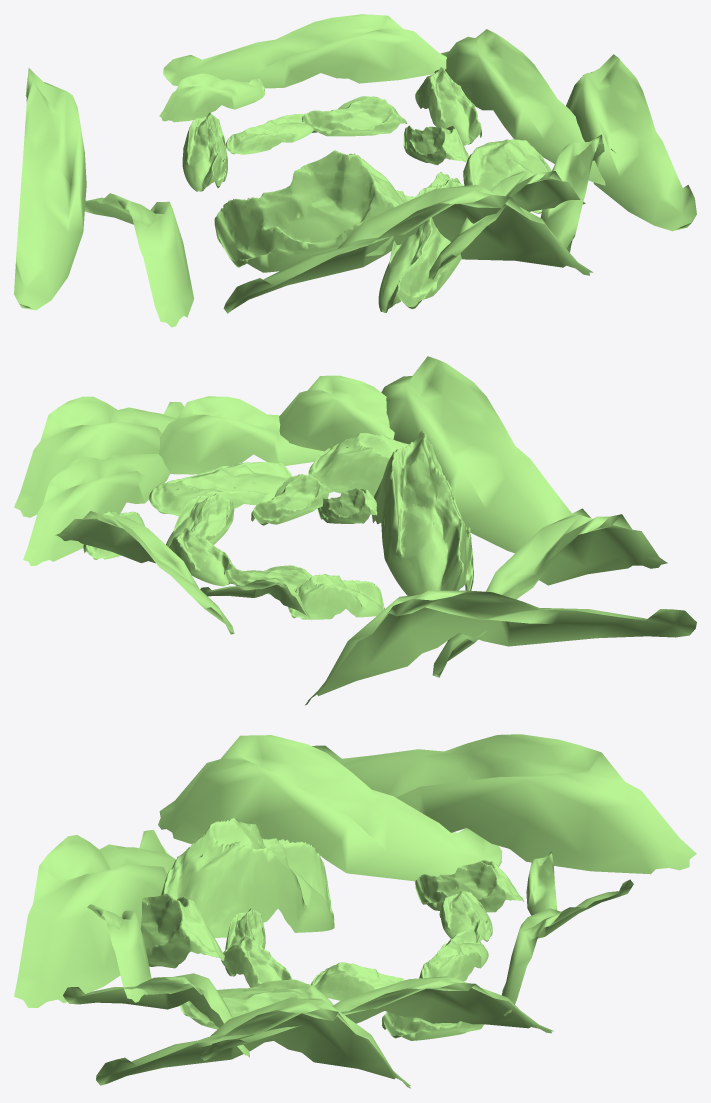
Rendered from background_mountains_sm.fbx.
3 renders of one model, top to bottom at view 1: azimuth 30°, elevation 25°; view 2: azimuth 150°, elevation 25°; view 3: azimuth 270°, elevation 25°, orthographic. The views are drawn at different scales.
Visible parts, largest first — view 1: hill.005|Sphere|Dupli|, hill_02.009|Sphere.001|Dupli|, hill_02.007|Sphere.001|Dupli|, hill_02.002|Sphere.001|Dupli|, hill_02.005|Sphere.001|Dupli|, hill_02.003|Sphere.001|Dupli|, hill_02.008|Sphere.001|Dupli|, hill.008|Sphere|Dupli|, hill_02.006|Sphere.001|Dupli|, hill_02|Sphere.001|Dupli|, hill_02.004|Sphere.001|Dupli|, hill.001|Sphere|Dupli| (+5 smaller); view 2: hill_02.007|Sphere.001|Dupli|, hill_02.009|Sphere.001|Dupli|, hill.005|Sphere|Dupli|, hill_02.008|Sphere.001|Dupli|, hill_02.005|Sphere.001|Dupli|, hill_02.004|Sphere.001|Dupli|, hill_02.003|Sphere.001|Dupli|, hill_02.006|Sphere.001|Dupli|, hill_02.002|Sphere.001|Dupli|, hill.009|Sphere|Dupli|, hill.008|Sphere|Dupli|, hill.004|Sphere|Dupli| (+7 smaller); view 3: hill_02.009|Sphere.001|Dupli|, hill_02.008|Sphere.001|Dupli|, hill_02.007|Sphere.001|Dupli|, hill.005|Sphere|Dupli|, hill_02.005|Sphere.001|Dupli|, hill_02.003|Sphere.001|Dupli|, hill.008|Sphere|Dupli|, hill_02.004|Sphere.001|Dupli|, hill.004|Sphere|Dupli|, hill_02.002|Sphere.001|Dupli|, hill_02.006|Sphere.001|Dupli|, hill.009|Sphere|Dupli| (+7 smaller).
Part boxes in pixels (x1,y1,x2,y2): hill.005|Sphere|Dupli|: (214, 150, 404, 272); hill_02.009|Sphere.001|Dupli|: (14, 68, 86, 310); hill_02.007|Sphere.001|Dupli|: (223, 184, 593, 313); hill_02.002|Sphere.001|Dupli|: (163, 14, 446, 88); hill_02.005|Sphere.001|Dupli|: (566, 54, 696, 231); hill_02.003|Sphere.001|Dupli|: (434, 29, 615, 185); hill_02.008|Sphere.001|Dupli|: (85, 193, 194, 327); hill.008|Sphere|Dupli|: (378, 179, 463, 312); hill_02.006|Sphere.001|Dupli|: (428, 171, 585, 279); hill_02|Sphere.001|Dupli|: (159, 73, 265, 122); hill_02.004|Sphere.001|Dupli|: (540, 134, 604, 252); hill.001|Sphere|Dupli|: (302, 96, 407, 136); hill_02.007|Sphere.001|Dupli|: (381, 356, 590, 553); hill_02.009|Sphere.001|Dupli|: (305, 590, 696, 705); hill.005|Sphere|Dupli|: (372, 430, 473, 595); hill_02.008|Sphere.001|Dupli|: (432, 514, 667, 677); hill_02.005|Sphere.001|Dupli|: (14, 396, 183, 517); hill_02.004|Sphere.001|Dupli|: (159, 396, 324, 474); hill_02.003|Sphere.001|Dupli|: (23, 454, 169, 565); hill_02.006|Sphere.001|Dupli|: (279, 375, 394, 451); hill_02.002|Sphere.001|Dupli|: (55, 511, 234, 634); hill.009|Sphere|Dupli|: (149, 462, 291, 516); hill.008|Sphere|Dupli|: (308, 433, 409, 497); hill.004|Sphere|Dupli|: (288, 574, 384, 619); hill_02.009|Sphere.001|Dupli|: (312, 734, 696, 874); hill_02.008|Sphere.001|Dupli|: (158, 735, 502, 881); hill_02.007|Sphere.001|Dupli|: (14, 830, 175, 1007); hill.005|Sphere|Dupli|: (161, 817, 334, 937); hill_02.005|Sphere.001|Dupli|: (96, 998, 410, 1088); hill_02.003|Sphere.001|Dupli|: (200, 976, 553, 1060); hill.008|Sphere|Dupli|: (140, 893, 224, 968); hill_02.004|Sphere.001|Dupli|: (63, 973, 249, 1057); hill.004|Sphere|Dupli|: (415, 860, 523, 912); hill_02.002|Sphere.001|Dupli|: (502, 879, 633, 1016); hill_02.006|Sphere.001|Dupli|: (87, 904, 151, 1002); hill.009|Sphere|Dupli|: (180, 979, 333, 1029).
Bounding box in the file's own units: 30659 × 6080 × 26667.
